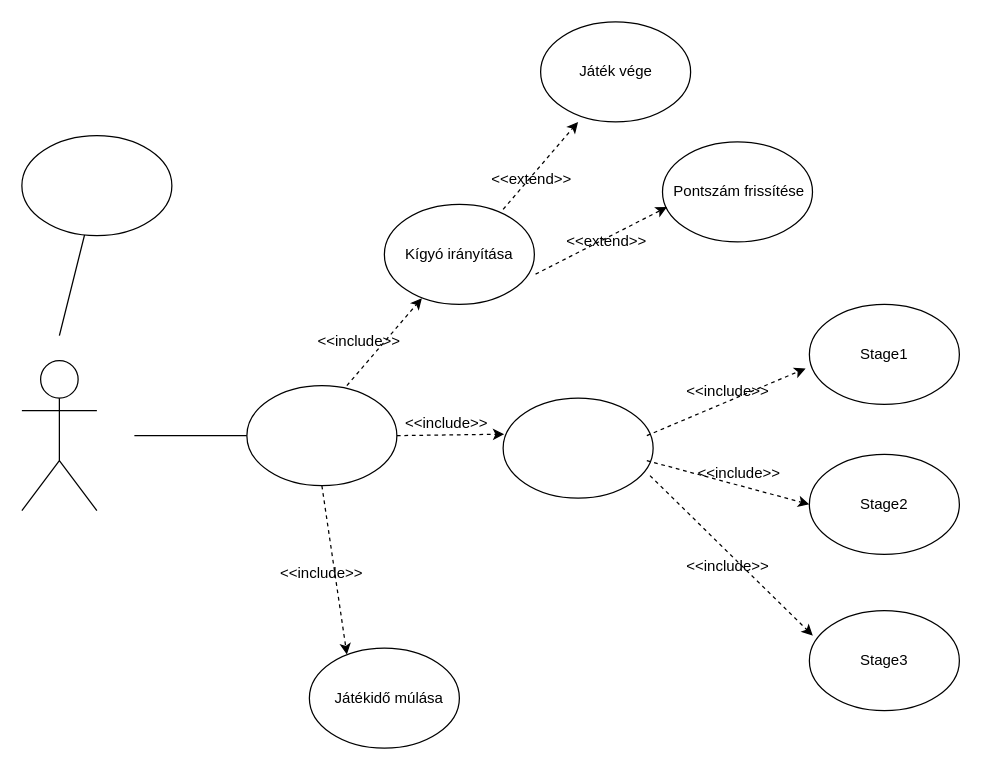
Image size: 981x770. Some labels were removed from this diagram. Here are the shapes that lost their labels. From the top down, the centre of each, then its label:
point (96, 185): Kilépés
point (59, 435): Actor
point (321, 435): Új játék
point (577, 447): Pályaválasztás
